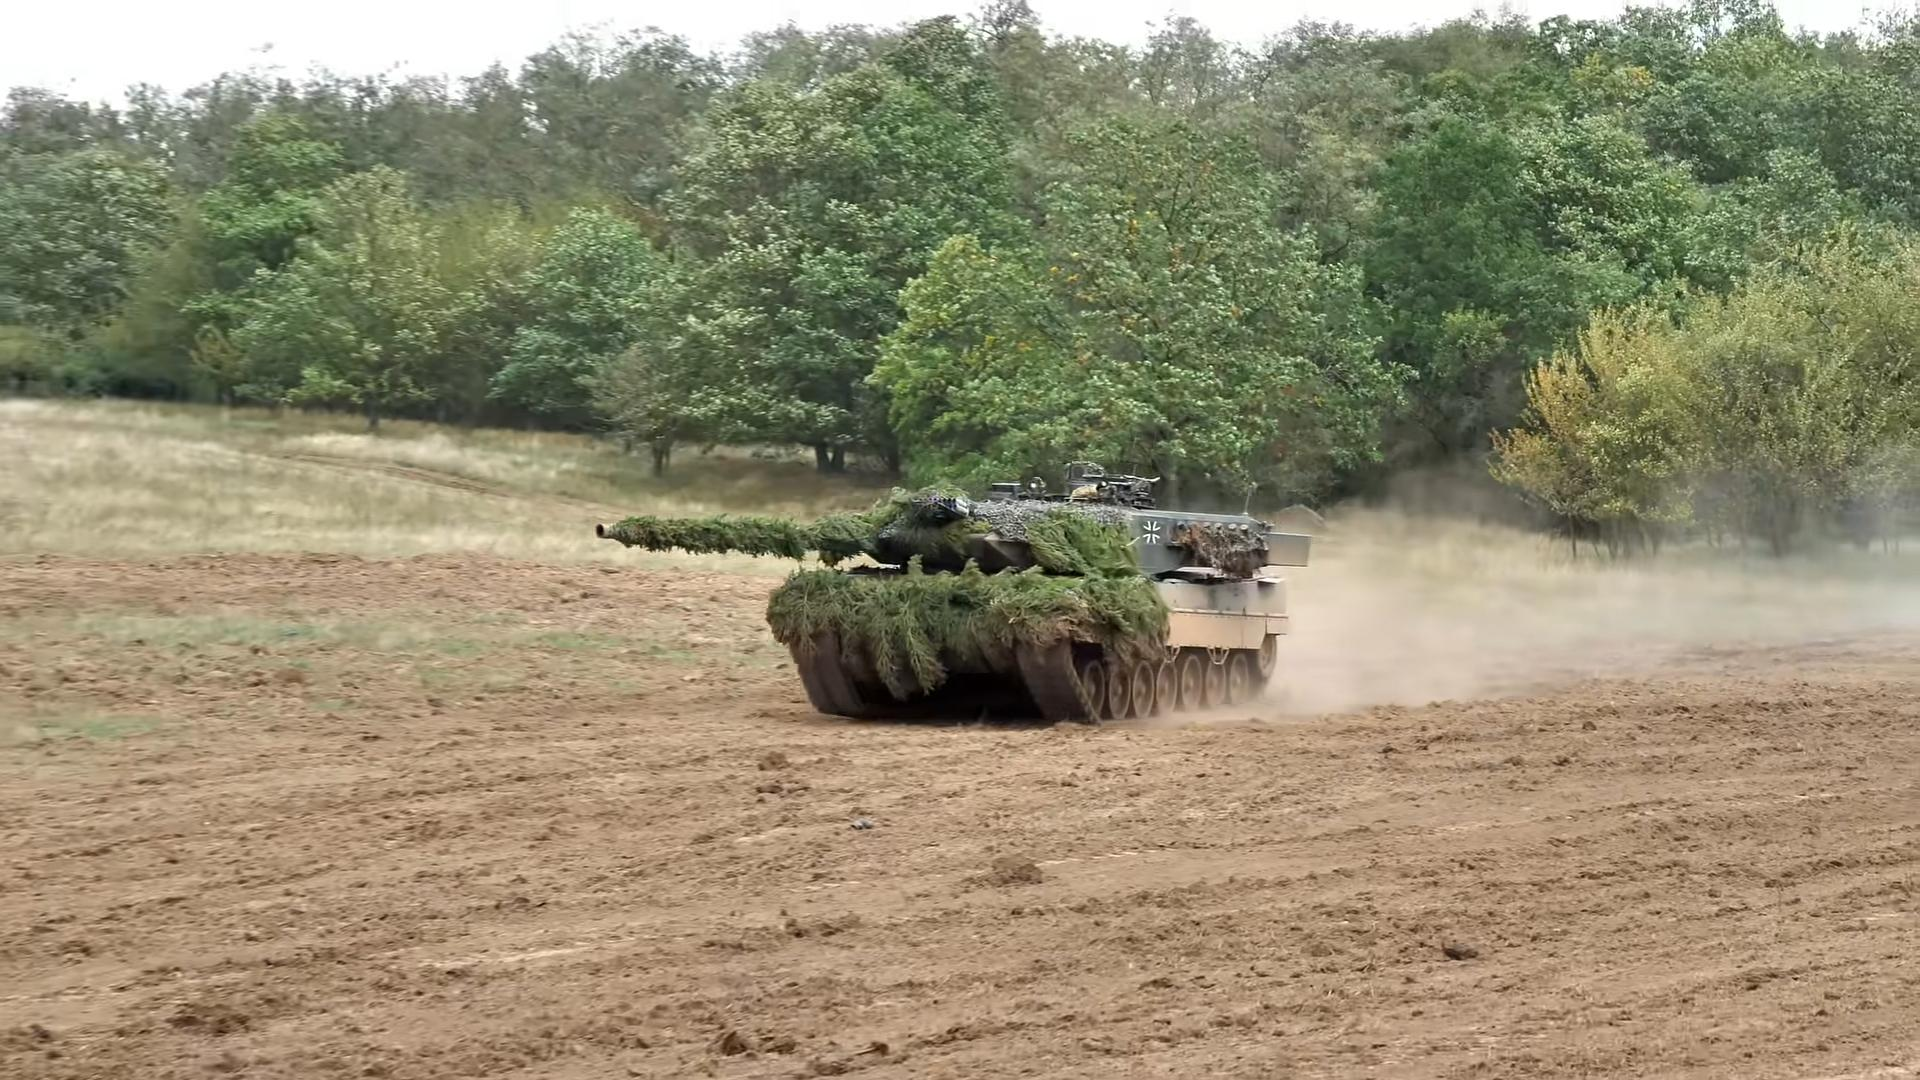tank: (601, 459, 1315, 723)
